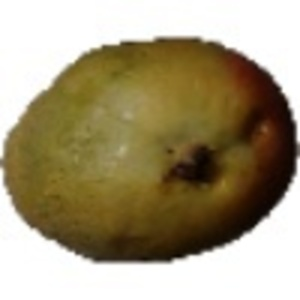mamão: (3, 33, 298, 271)
